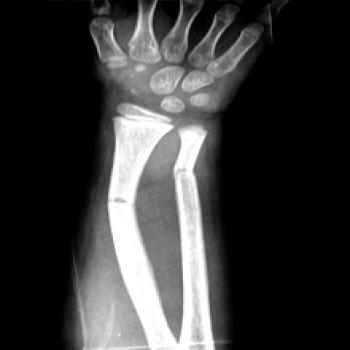Fracture: (102, 189, 141, 210), (167, 158, 200, 182)
